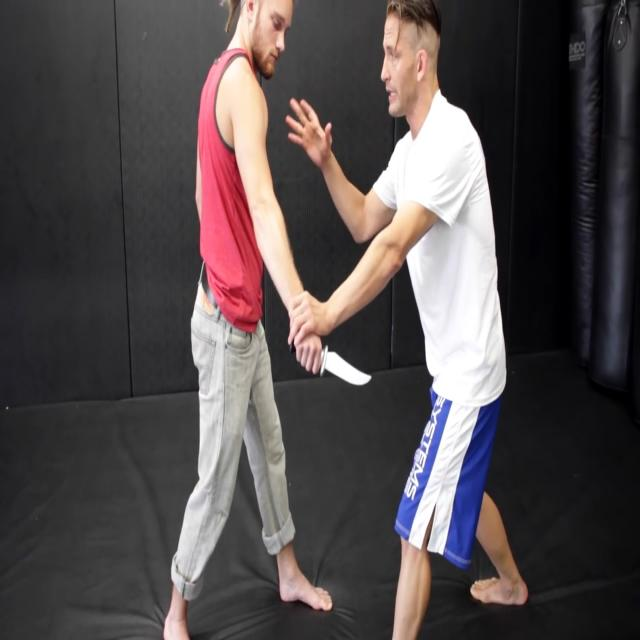knife: (317, 341, 377, 390)
